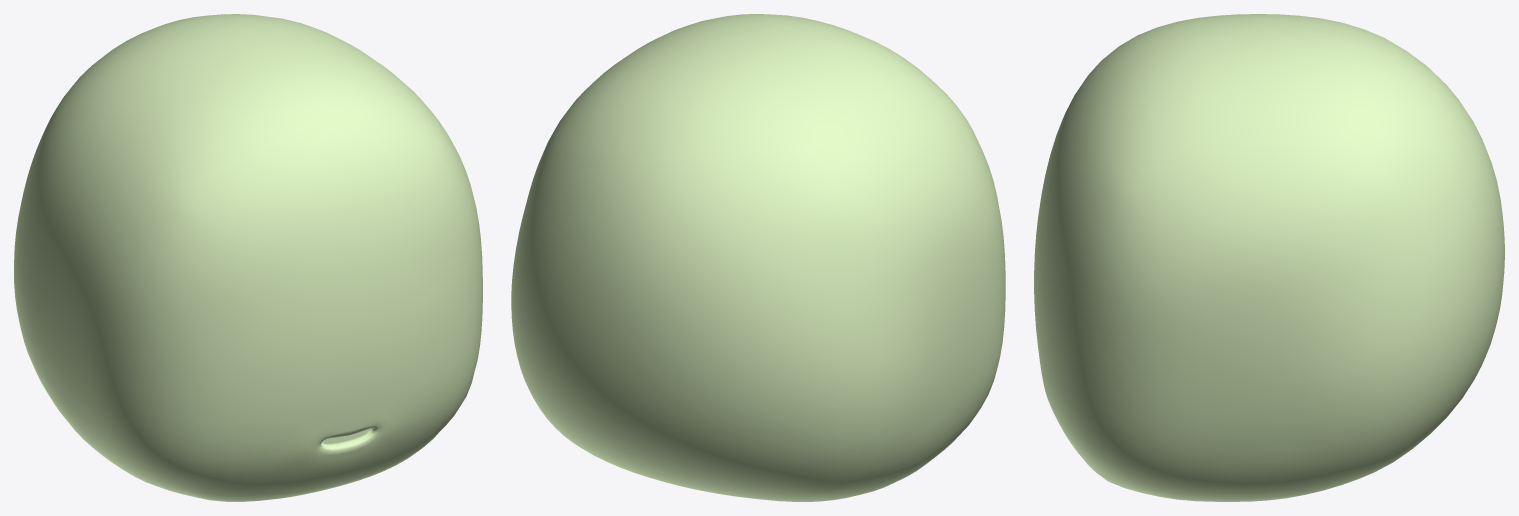
The model's file is cabeza.gltf.
3 renders of one model, left to right at view 1: azimuth 30°, elevation 25°; view 2: azimuth 150°, elevation 25°; view 3: azimuth 270°, elevation 25°, orthographic. The views are drawn at different scales.
Parts seen in each view (by area): view 1: cabeza_1; view 2: cabeza_1; view 3: cabeza_1.
Boxes of the visible parts, x1,y1,x2,y2 form: cabeza_1: [14, 14, 482, 501]; cabeza_1: [511, 14, 1005, 501]; cabeza_1: [1034, 14, 1504, 501].
Size of the model in its own units: 2.93 by 2.97 by 3.08.
